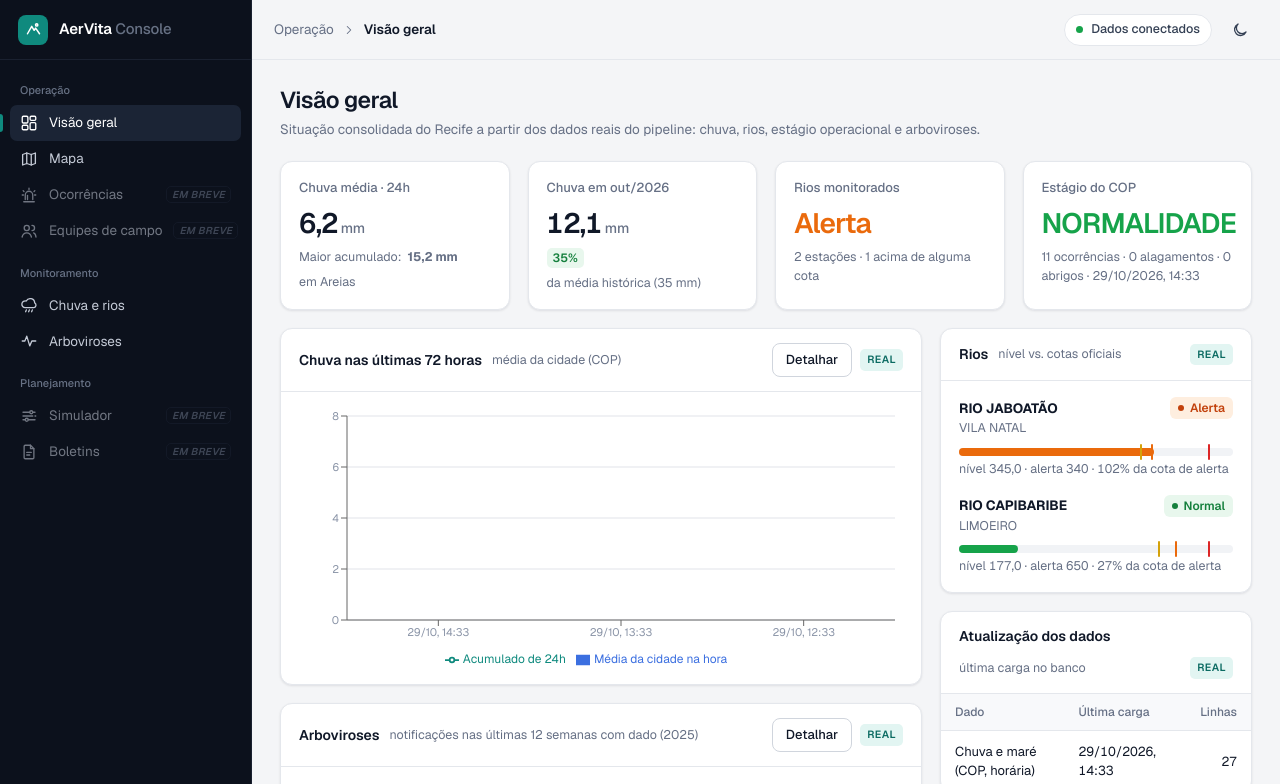
Test: navegar pelo menu troca a tela e o título
The image size is (1280, 784).
Click the link "Simulador em breve" at (81, 415), box x1=20 y1=406 x2=231 y2=424
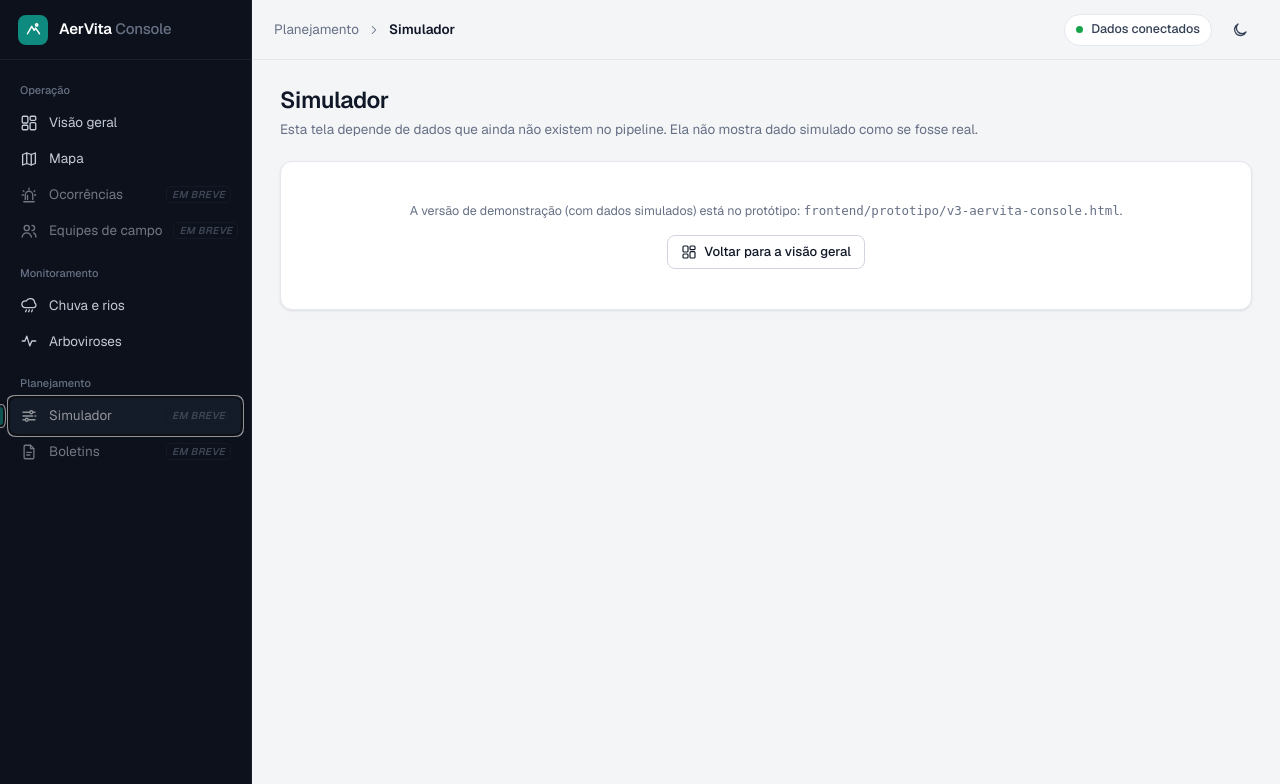
Now the heading "Simulador" is shown, box x1=280 y1=85 x2=389 y2=115
Now the text "não mostra dado simulado como se fosse real" is shown, box x1=280 y1=120 x2=978 y2=138
